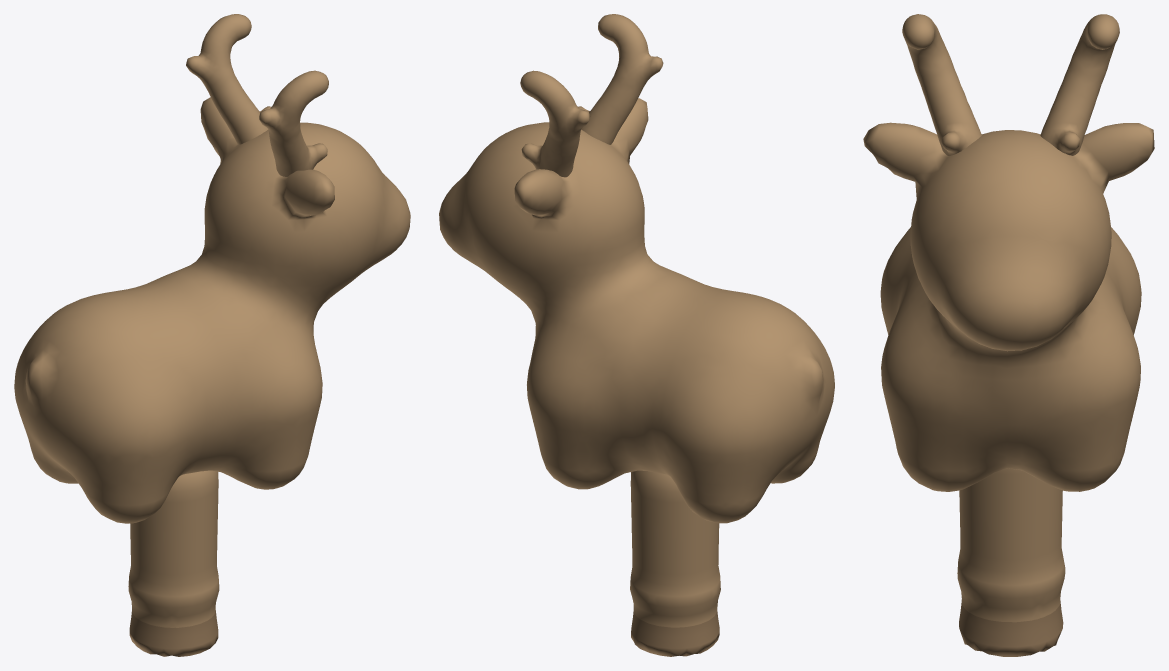
The model's file is reindeer183_baby.glb.
3 renders of one model, left to right at view 1: azimuth 30°, elevation 25°; view 2: azimuth 150°, elevation 25°; view 3: azimuth 270°, elevation 25°, orthographic. The views are drawn at different scales.
Parts seen in each view (by area): view 1: body, leg, horn; view 2: body, leg, horn; view 3: body, leg, horn.
Boxes of the visible parts, left/top/right/bottom form: body: left=14, top=97, right=410, bottom=523; leg: left=128, top=470, right=219, bottom=656; horn: left=186, top=14, right=328, bottom=176; body: left=439, top=98, right=834, bottom=523; leg: left=630, top=470, right=720, bottom=656; horn: left=520, top=14, right=663, bottom=177; body: left=863, top=122, right=1154, bottom=491; leg: left=957, top=468, right=1065, bottom=656; horn: left=902, top=14, right=1119, bottom=155.
Size of the model in its own units: 1.83 by 2.67 by 1.04.
